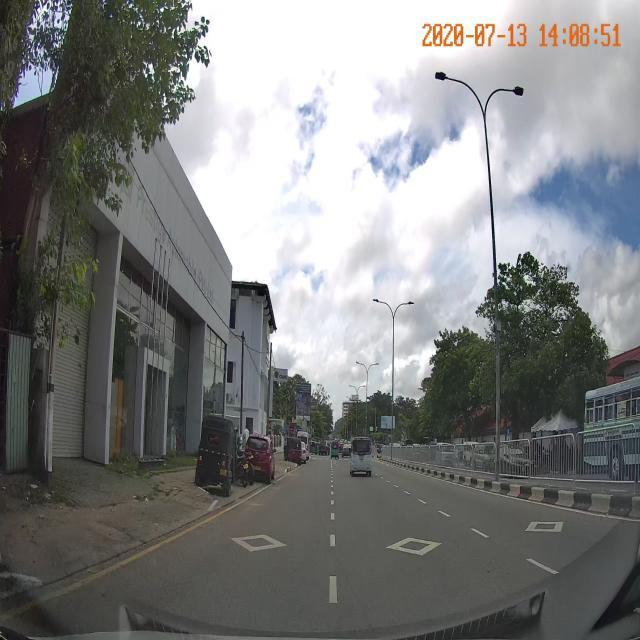diamond: (127, 511, 328, 590), (328, 516, 539, 589)
